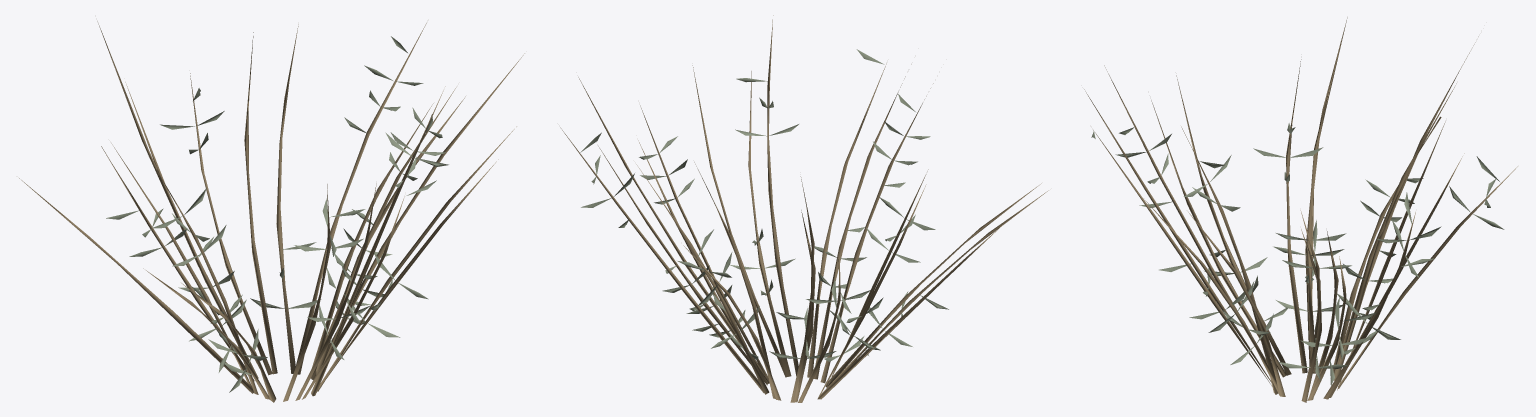
File: Lavande_1_Niveau2.fbx
The picture shows the model from 3 angles, left to right: view 1: azimuth 30°, elevation 25°; view 2: azimuth 150°, elevation 25°; view 3: azimuth 270°, elevation 25°; orthographic projection. The views are drawn at different scales.
Visible parts, largest first — view 1: Lavande_1_Niveau2; view 2: Lavande_1_Niveau2; view 3: Lavande_1_Niveau2.
Part boxes in pixels (x1,y1,x2,y2): Lavande_1_Niveau2: (19,21,524,402); Lavande_1_Niveau2: (560,15,1048,402); Lavande_1_Niveau2: (1084,17,1517,402).
Bounding box in the file's own units: 76.68 × 49.81 × 60.86.
